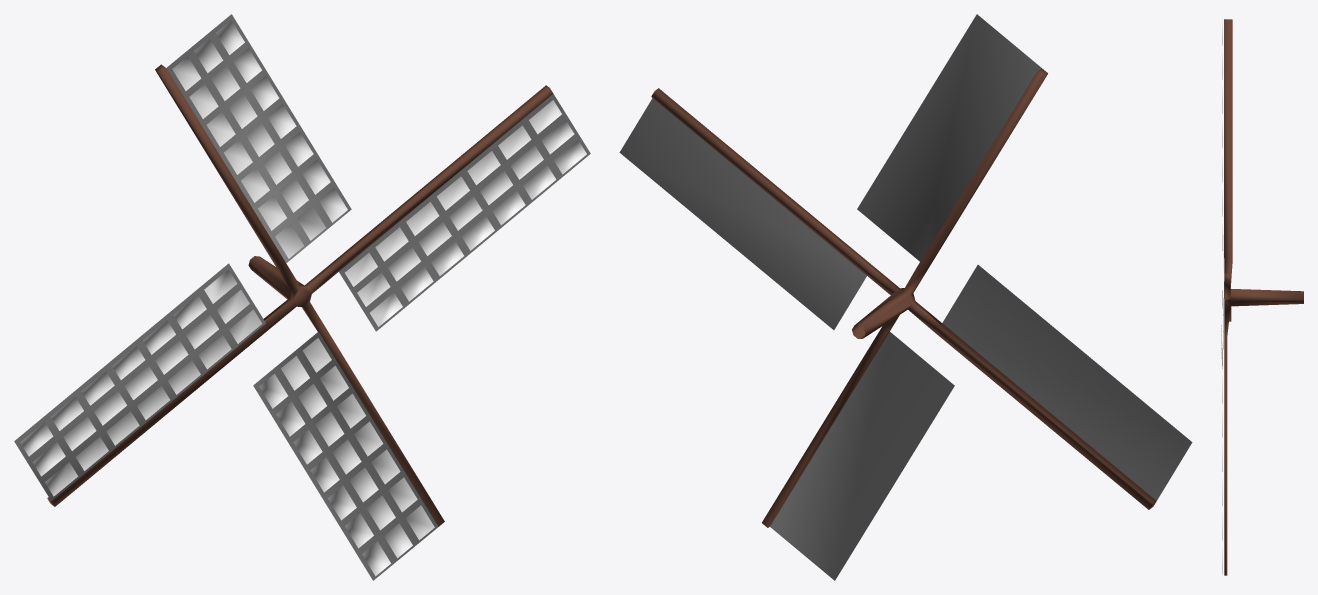
The model's file is Winndmill_fan.gltf.
3 renders of one model, left to right at view 1: azimuth 30°, elevation 25°; view 2: azimuth 150°, elevation 25°; view 3: azimuth 270°, elevation 25°, orthographic. The views are drawn at different scales.
Visible parts, largest first — view 1: End_Windmill_fan_glb; view 2: End_Windmill_fan_glb; view 3: End_Windmill_fan_glb.
Boxes of the visible parts, box(x1,y1,x2,y2) form: End_Windmill_fan_glb: box(14, 14, 590, 580); End_Windmill_fan_glb: box(619, 14, 1192, 580); End_Windmill_fan_glb: box(1221, 18, 1303, 575).
Size of the model in its own units: 4.82 by 4.82 by 0.7125.
1 material, 1 textured.
